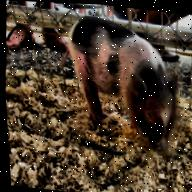boar: (59, 13, 189, 156)
